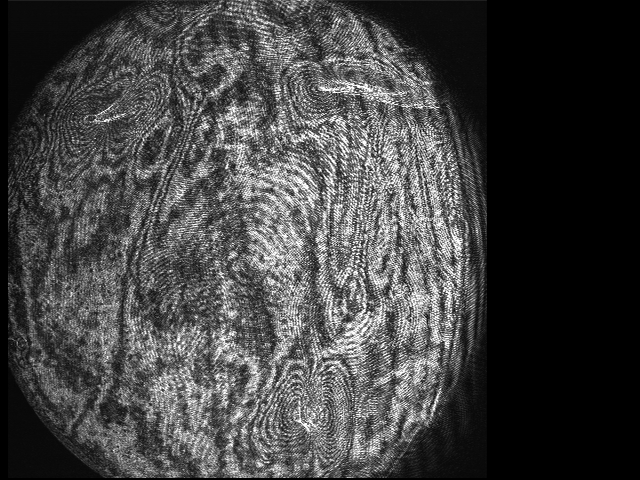plume: (252, 364, 355, 459), (63, 76, 167, 157), (138, 1, 225, 31)
